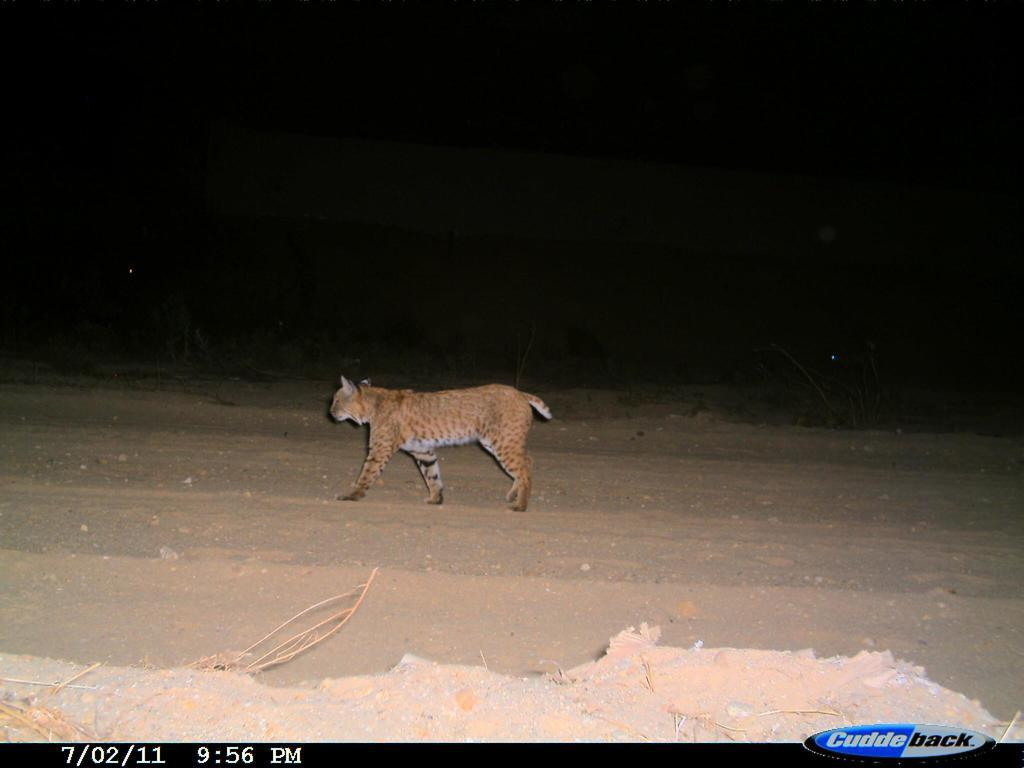bobcat: (322, 370, 560, 516)
